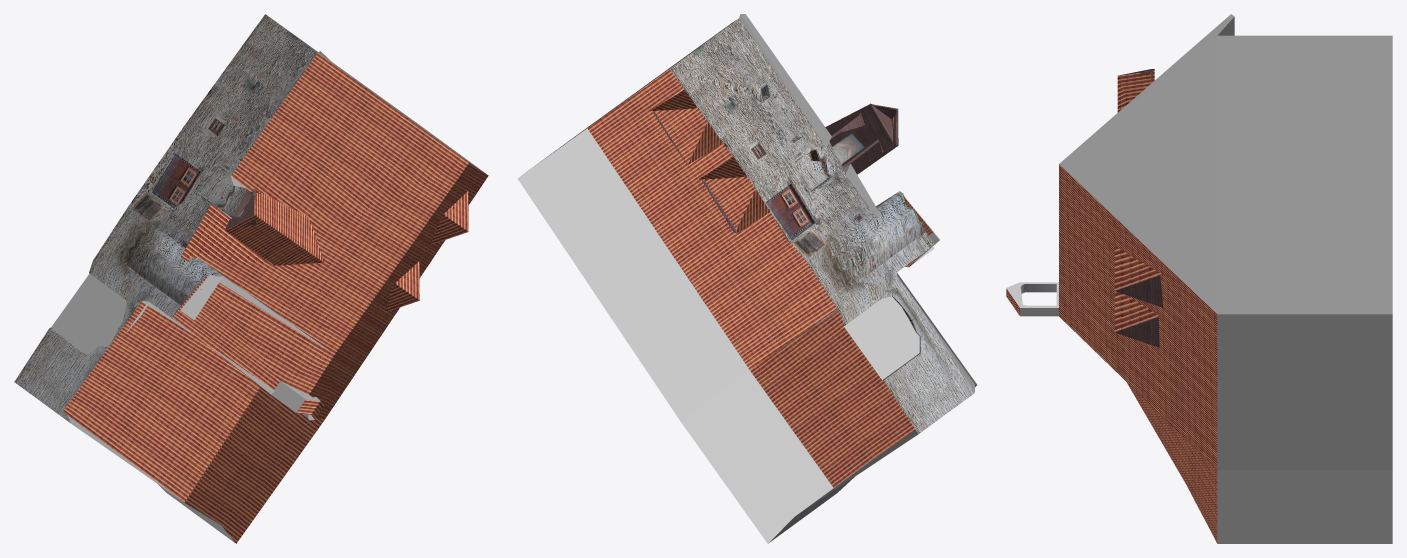
File: Laboratooriumi_22-origo.obj
3 views of the same model, side by side, from view 1: azimuth 30°, elevation 25°; view 2: azimuth 150°, elevation 25°; view 3: azimuth 270°, elevation 25° (orthographic). The views are drawn at different scales.
Visible parts, largest first — view 1: Laboratooriumi_22; view 2: Laboratooriumi_22; view 3: Laboratooriumi_22.
Part boxes in pixels (x1=…): Laboratooriumi_22: x1=14, y1=14, x2=488, y2=543; Laboratooriumi_22: x1=517, y1=14, x2=976, y2=543; Laboratooriumi_22: x1=1006, y1=14, x2=1392, y2=543.
Size of the model in its own units: 18.88 by 20.5 by 12.32.
